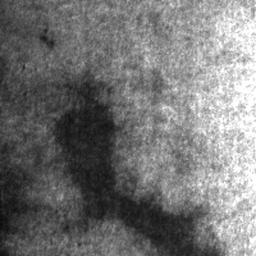Patches: (49, 104, 198, 256)
